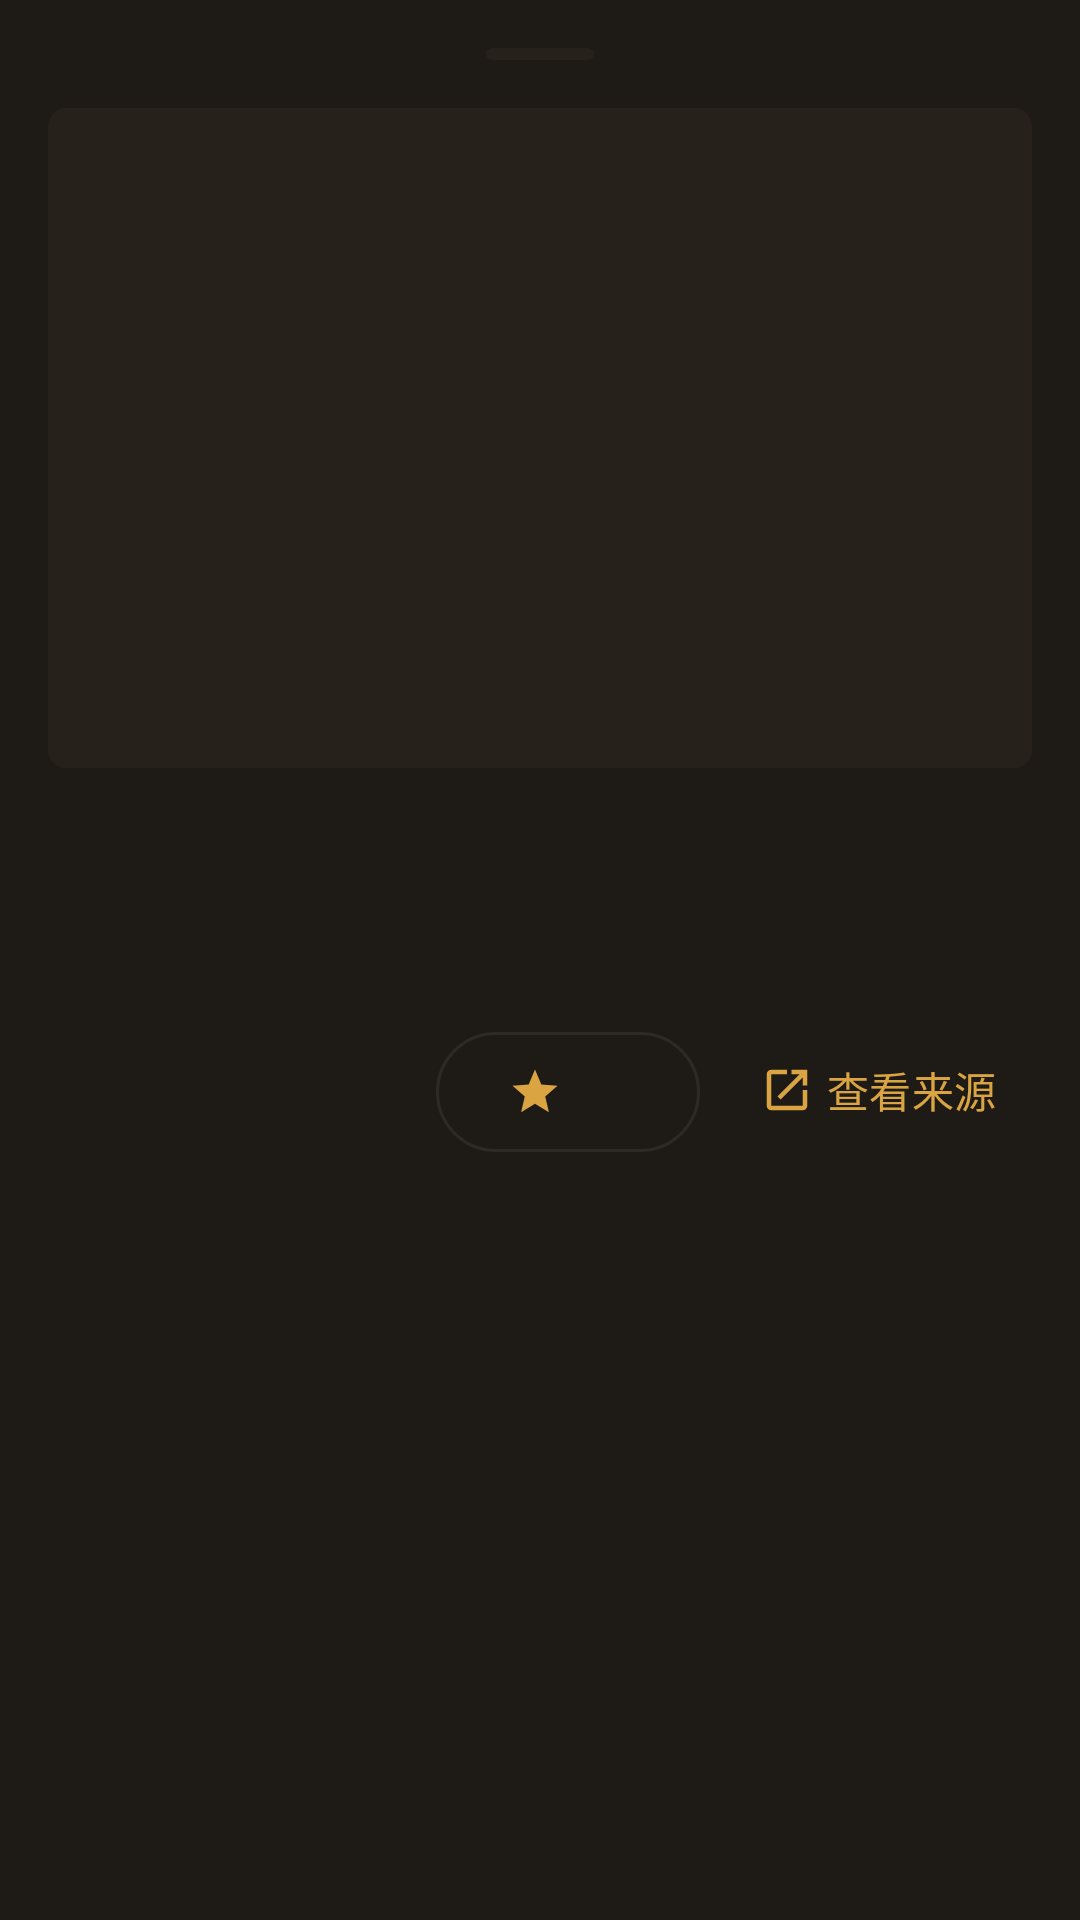

Where to tap for icons on this 1080w x 1920h app screen, as (x,y):
star: (535,1091)
